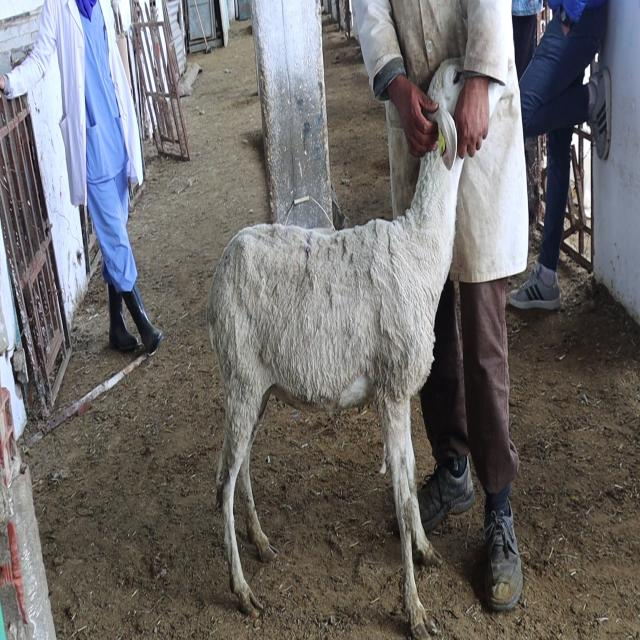Score_1: (207, 59, 464, 639)
